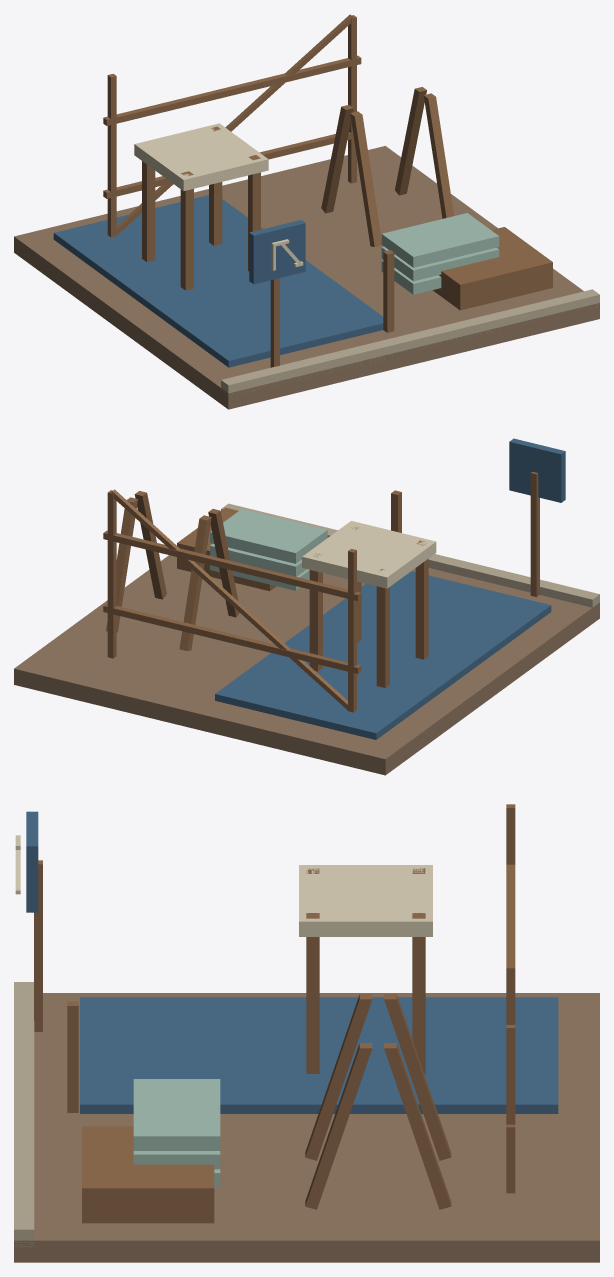
Rendered from playground-seabreeze-half-built.glb.
3 views of the same model, one above another, from view 1: azimuth 30°, elevation 25°; view 2: azimuth 150°, elevation 25°; view 3: azimuth 270°, elevation 25° (orthographic). The views are drawn at different scales.
Parts seen in each view (by area): view 1: playground; view 2: playground; view 3: playground.
Part boxes in pixels (bbox=[...]): playground: bbox=[14, 14, 599, 409]; playground: bbox=[14, 438, 599, 775]; playground: bbox=[14, 804, 599, 1262].
Size of the model in its own units: 2.88 by 1.38 by 2.88.
